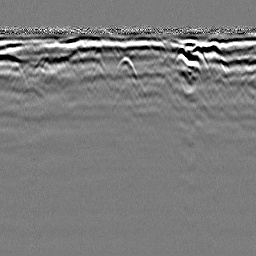cavity: (115, 53, 138, 80)
